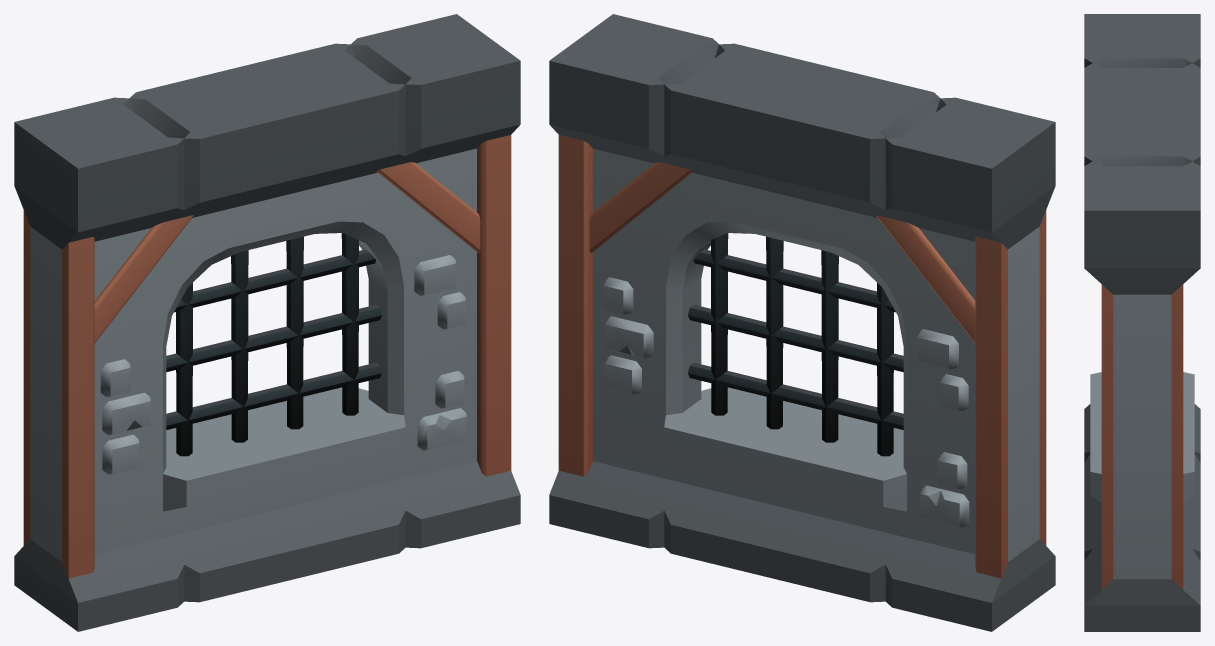
File: wall_archedwindow_gated_scaffold.gltf
3 views of the same model, side by side, from view 1: azimuth 30°, elevation 25°; view 2: azimuth 150°, elevation 25°; view 3: azimuth 270°, elevation 25° (orthographic). The views are drawn at different scales.
Visible parts, largest first — view 1: wall_archedwindow_gated_scaffold; view 2: wall_archedwindow_gated_scaffold; view 3: wall_archedwindow_gated_scaffold.
Boxes of the visible parts, <box> form: wall_archedwindow_gated_scaffold: <box>14,14,520,631</box>; wall_archedwindow_gated_scaffold: <box>549,14,1055,631</box>; wall_archedwindow_gated_scaffold: <box>1084,14,1200,631</box>.
Bounding box in the file's own units: 4 × 4 × 1.
Materials: 1 (1 with a texture image).
